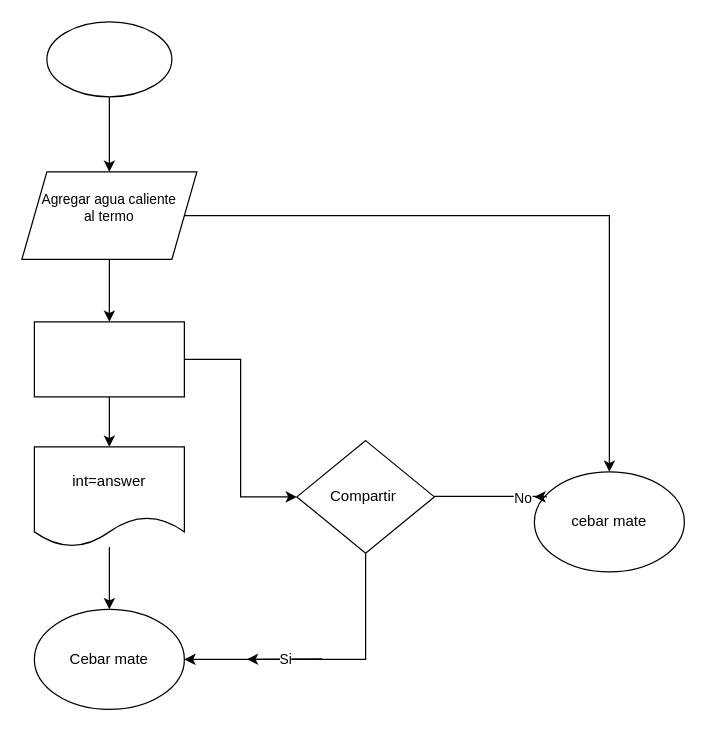
This 706x731 diagram has some shape labels left out. The shapes that lost their labels are listed below. From the top down, each one's centre as x and y in pixels, then its label:
At point 109,59: "como cebar mate".
At point 108,359: "mate+cantidad de personas".
